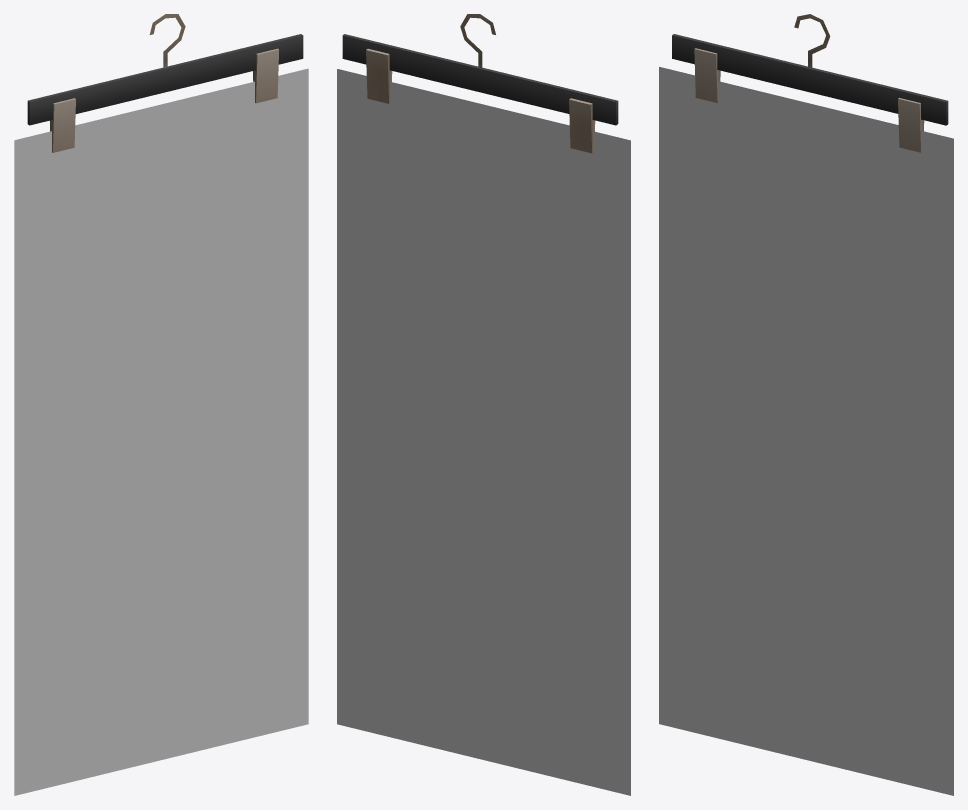
Rendered from Hang_Towel_08.FBX.
The picture shows the model from 3 angles, left to right: view 1: azimuth 30°, elevation 25°; view 2: azimuth 150°, elevation 25°; view 3: azimuth 330°, elevation 25°; orthographic projection.
Parts seen in each view (by area): view 1: Hang_Towel_08; view 2: Hang_Towel_08; view 3: Hang_Towel_08.
Part boxes in pixels (x1=…): Hang_Towel_08: x1=14, y1=14, x2=308, y2=795; Hang_Towel_08: x1=337, y1=14, x2=630, y2=795; Hang_Towel_08: x1=659, y1=14, x2=953, y2=795.
Size of the model in its own units: 0.4782 by 0.0145 by 1.16.
